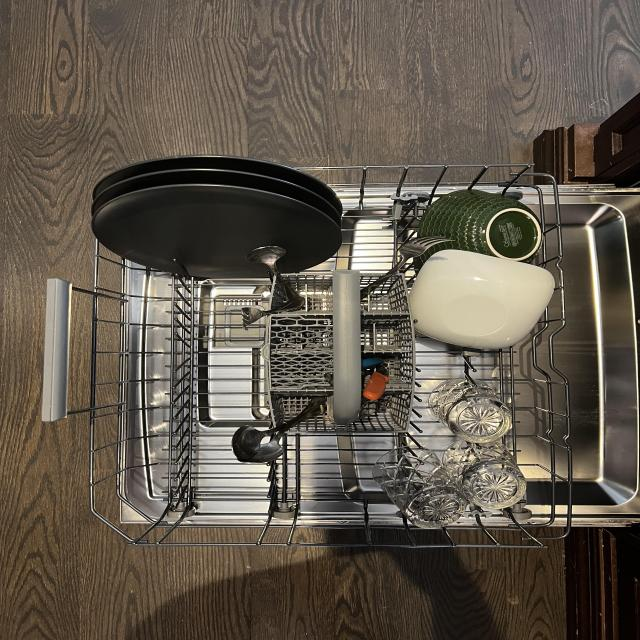Bowl: (408, 246, 555, 361)
Fork: (360, 231, 452, 300), (237, 303, 294, 334)
Glass: (370, 447, 469, 528), (444, 438, 528, 515), (429, 378, 514, 443)
Knife: (363, 361, 396, 405)
Plate: (91, 182, 344, 276)
Spoon: (232, 392, 328, 466), (248, 240, 309, 308)
